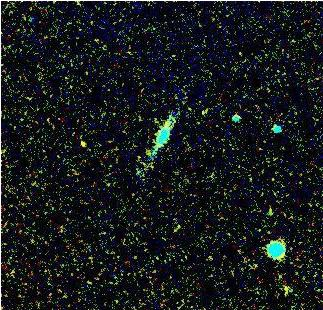star: (68, 127, 98, 157)
